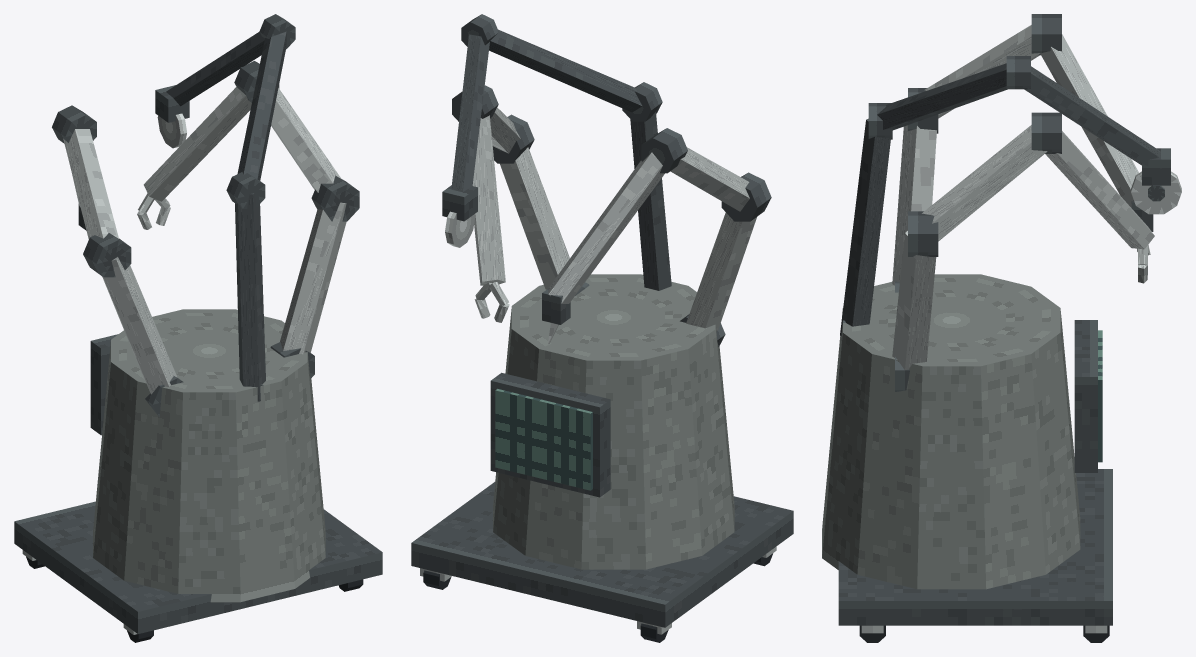
File: f_nl_autodoc.glb
3 views of the same model, side by side, from view 1: azimuth 30°, elevation 25°; view 2: azimuth 150°, elevation 25°; view 3: azimuth 270°, elevation 25° (orthographic). The views are drawn at different scales.
Parts seen in each view (by area): view 1: block_alien-surgical-base, block_surgical-manipulator-arm-link-1 (×5), block_robot-caster-mounting-plate, block_auxiliary-tool-arm-arm-link-1 (×3), block_surgical-manipulator-joint (×4), block_auxiliary-tool-arm-joint (×2), block_surgery-terminal-bezel, block_rounded-tool-holder, block_disc-shaped-surgical-head; view 2: block_alien-surgical-base, block_robot-caster-mounting-plate, block_surgical-manipulator-arm-link-1 (×6), block_auxiliary-tool-arm-arm-link-1 (×3), block_surgery-terminal-display, block_surgery-terminal-bezel, block_surgical-manipulator-joint (×4), block_auxiliary-tool-arm-joint (×2), block_rounded-tool-holder, block_disc-shaped-surgical-head, block_slim-tool-holder; view 3: block_alien-surgical-base, block_surgical-manipulator-arm-link-1 (×6), block_robot-caster-mounting-plate, block_auxiliary-tool-arm-arm-link-1 (×3), block_surgical-manipulator-joint (×3), block_surgery-terminal-bezel, block_auxiliary-tool-arm-joint (×2), block_disc-shaped-surgical-head, block_rounded-tool-holder, block_surgery-terminal-display.
Part boxes in pixels (box(x1,y1,x2,y2)): block_alien-surgical-base: box(93, 309, 325, 602); block_surgical-manipulator-arm-link-1 (×5): box(63, 87, 346, 394); block_robot-caster-mounting-plate: box(14, 501, 382, 633); block_auxiliary-tool-arm-arm-link-1 (×3): box(166, 31, 286, 401); block_surgical-manipulator-joint (×4): box(52, 61, 359, 277); block_auxiliary-tool-arm-joint (×2): box(226, 14, 295, 208); block_surgery-terminal-bezel: box(90, 334, 118, 435); block_rounded-tool-holder: box(155, 85, 189, 122); block_disc-shaped-surgical-head: box(157, 113, 186, 148); block_alien-surgical-base: box(493, 274, 734, 569); block_robot-caster-mounting-plate: box(411, 482, 793, 627); block_surgical-manipulator-arm-link-1 (×6): box(472, 107, 756, 330); block_auxiliary-tool-arm-arm-link-1 (×3): box(451, 29, 671, 290); block_surgery-terminal-display: box(495, 388, 592, 490); block_surgery-terminal-bezel: box(490, 372, 610, 497); block_surgical-manipulator-joint (×4): box(452, 85, 771, 221); block_auxiliary-tool-arm-joint (×2): box(461, 14, 662, 121); block_rounded-tool-holder: box(442, 185, 477, 221); block_disc-shaped-surgical-head: box(445, 211, 475, 247); block_slim-tool-holder: box(542, 288, 570, 324); block_alien-surgical-base: box(822, 274, 1080, 589); block_surgical-manipulator-arm-link-1 (×6): box(892, 25, 1154, 370); block_robot-caster-mounting-plate: box(838, 469, 1112, 625); block_auxiliary-tool-arm-arm-link-1 (×3): box(840, 63, 1160, 335); block_surgical-manipulator-joint (×3): box(908, 14, 1061, 256); block_surgery-terminal-bezel: box(1074, 320, 1097, 472); block_auxiliary-tool-arm-joint (×2): box(868, 56, 1030, 139); block_disc-shaped-surgical-head: box(1131, 171, 1181, 214); block_rounded-tool-holder: box(1142, 148, 1170, 185); block_surgery-terminal-display: box(1098, 330, 1102, 462).
Bounding box in the file's own units: 0.7673 × 1.46 × 0.8206.
1 material, 1 textured.
